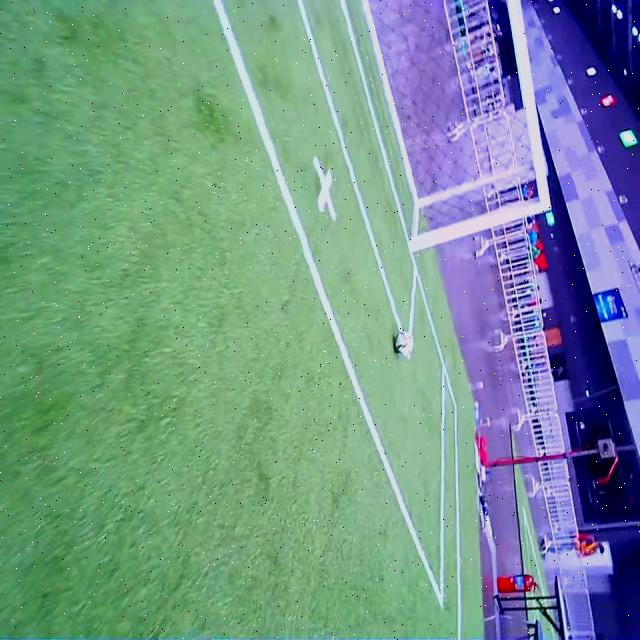ball: (396, 329, 413, 355)
